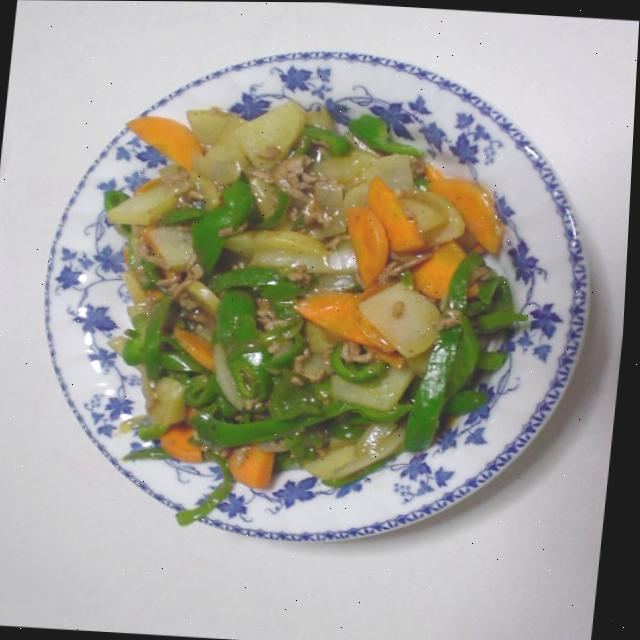牛肉菜式: (4, 6, 640, 585)
